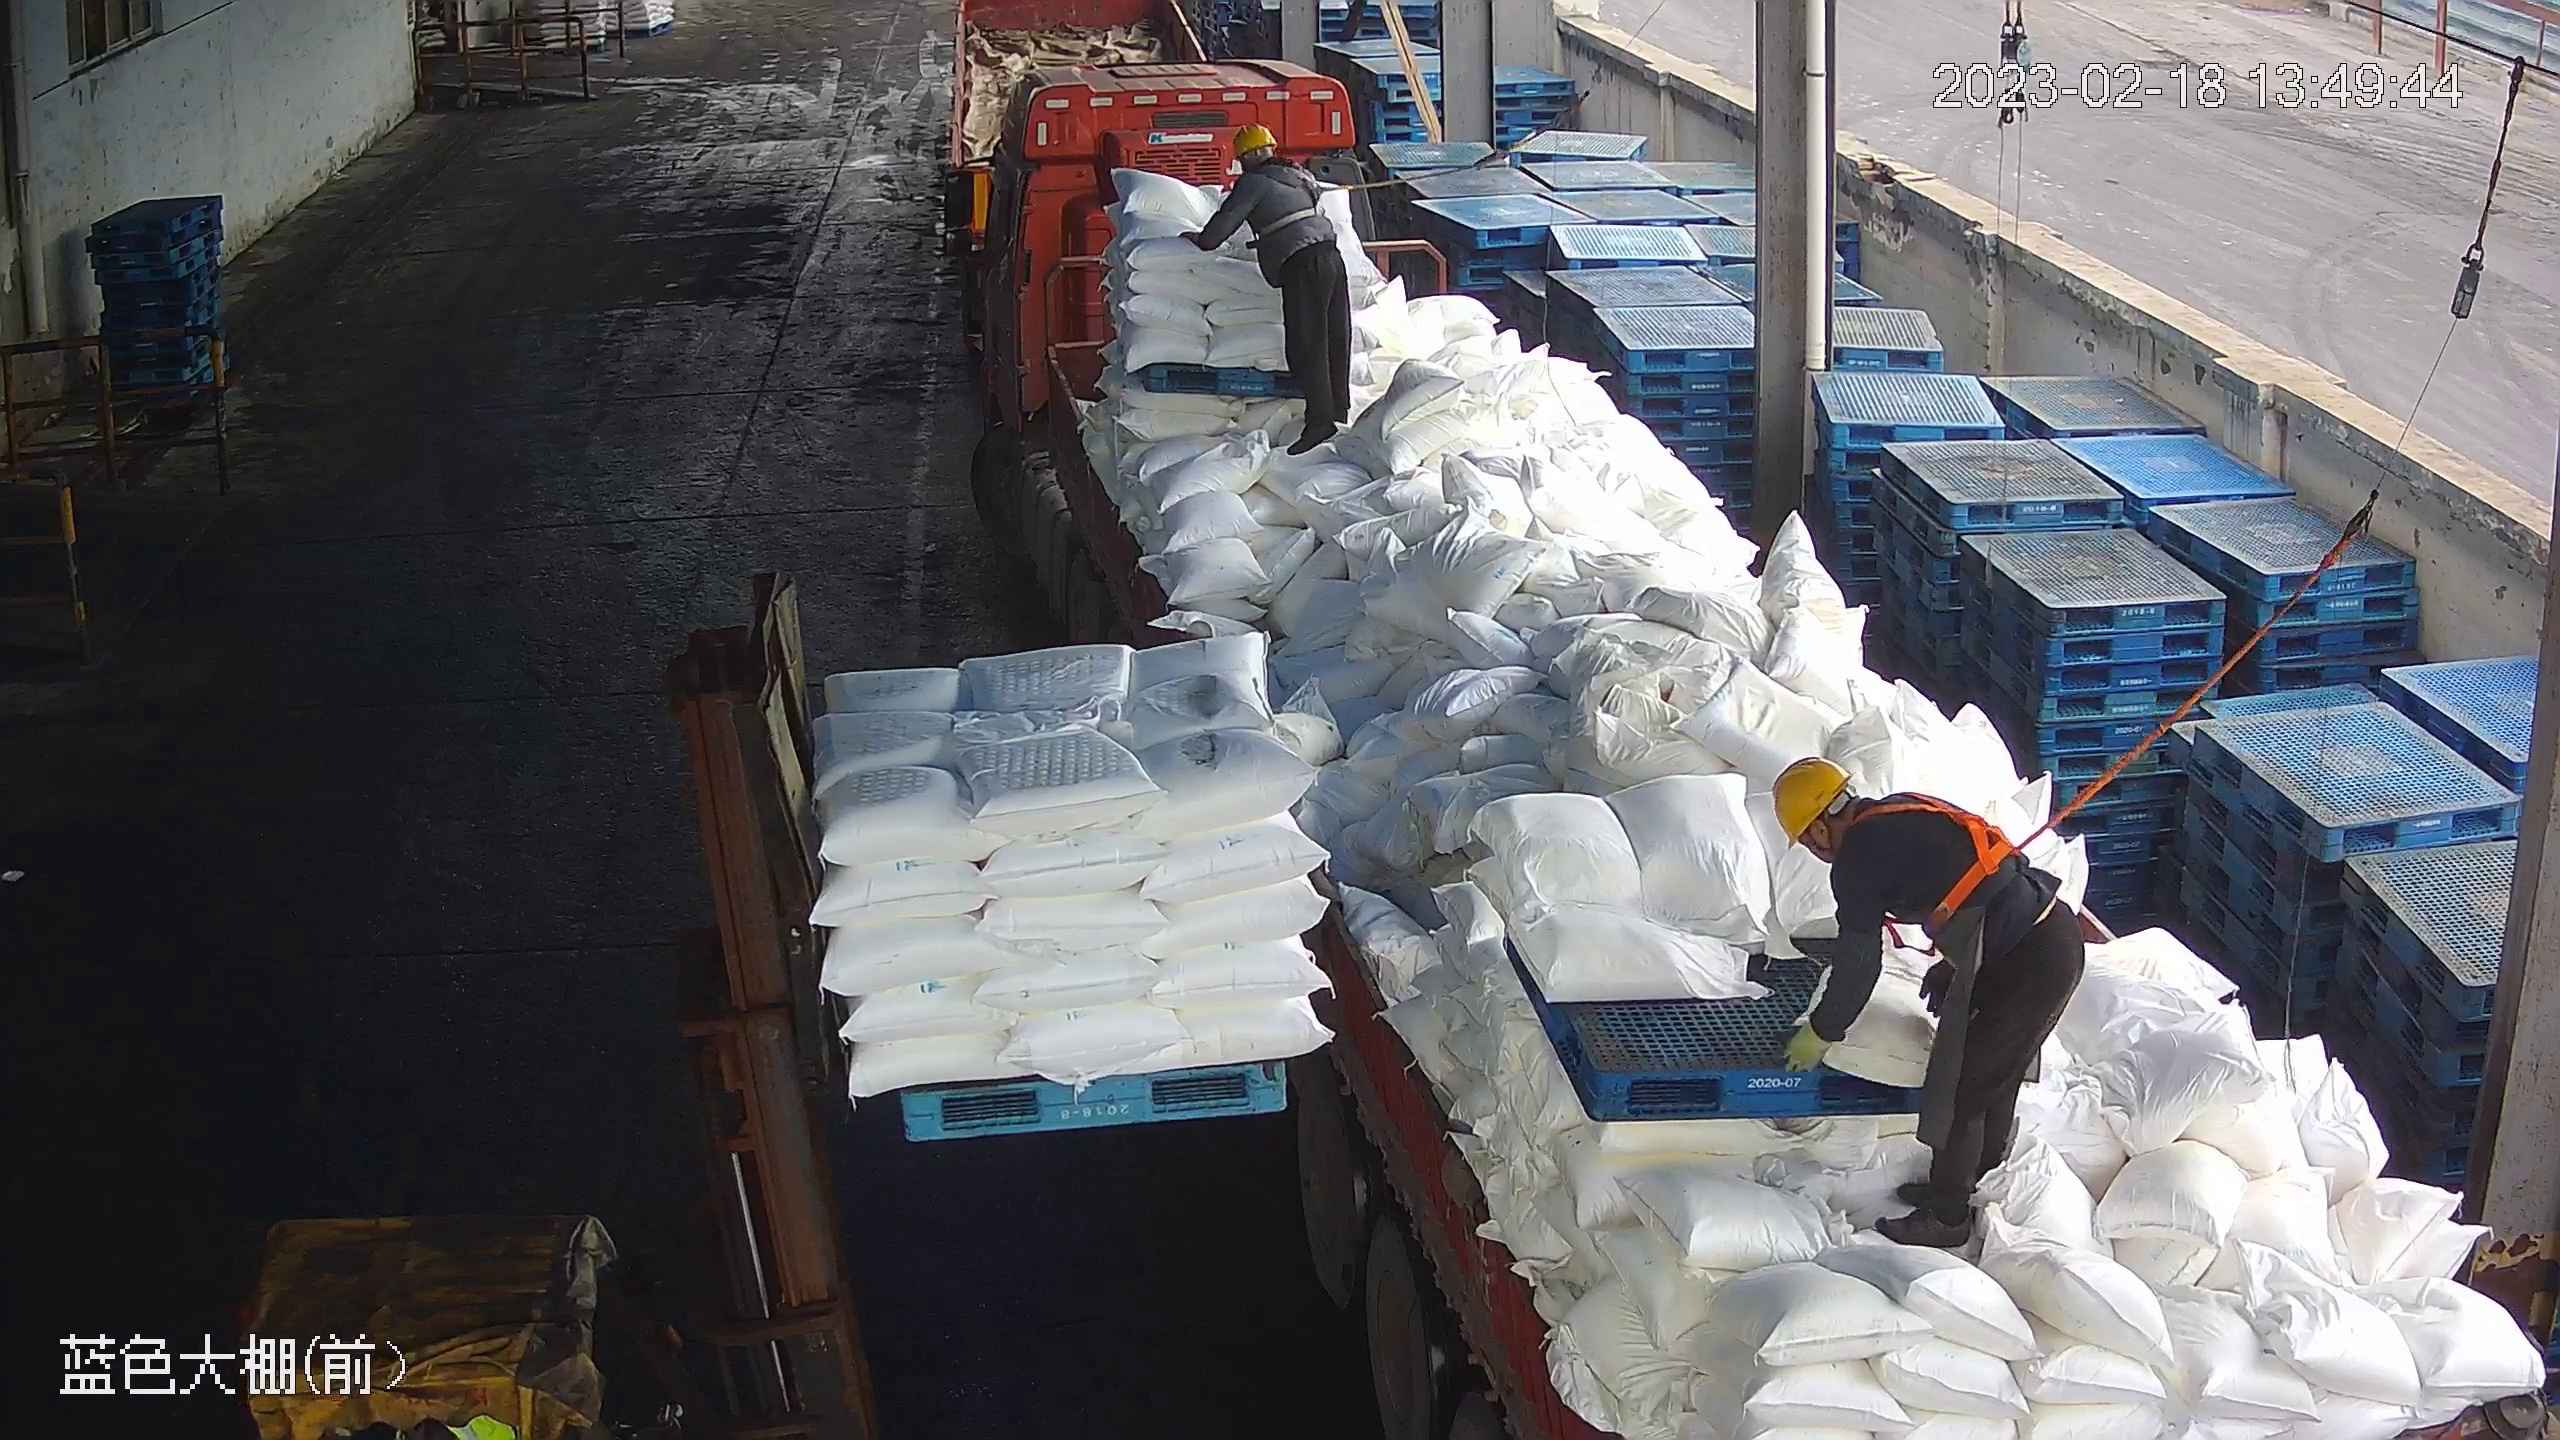belt: (1860, 783, 2058, 941), (1258, 154, 1353, 236)
head: (1768, 759, 1967, 942), (1222, 122, 1322, 215)
helmet: (1772, 755, 1852, 850), (1231, 121, 1277, 157)
people: (1767, 758, 2088, 1249), (1179, 117, 1361, 457)
truck: (938, 46, 2548, 1440)
